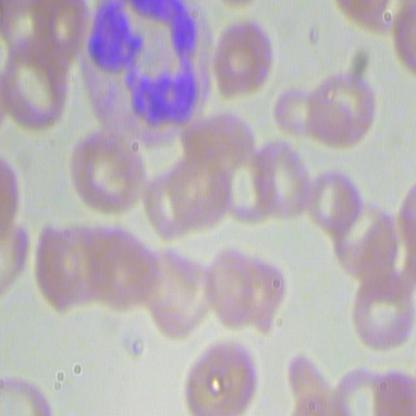WBC: (81, 1, 213, 149)
